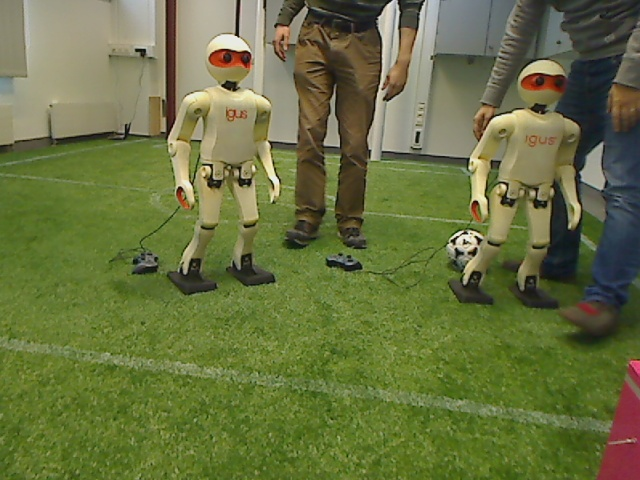ball: (447, 228, 489, 269)
robot: (168, 28, 283, 295), (466, 60, 575, 308)
